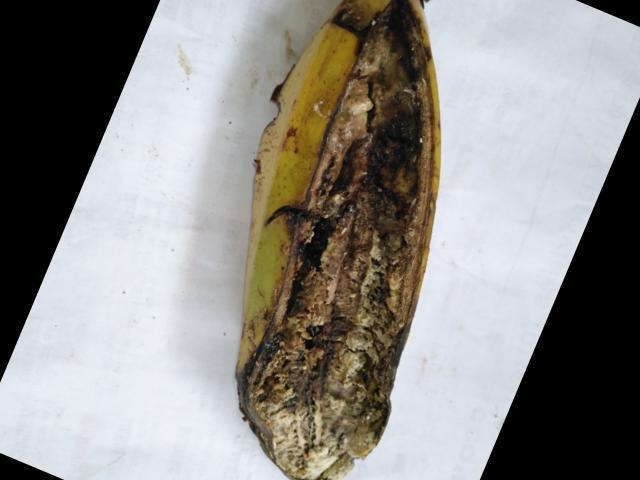rotten: (211, 9, 478, 471)
